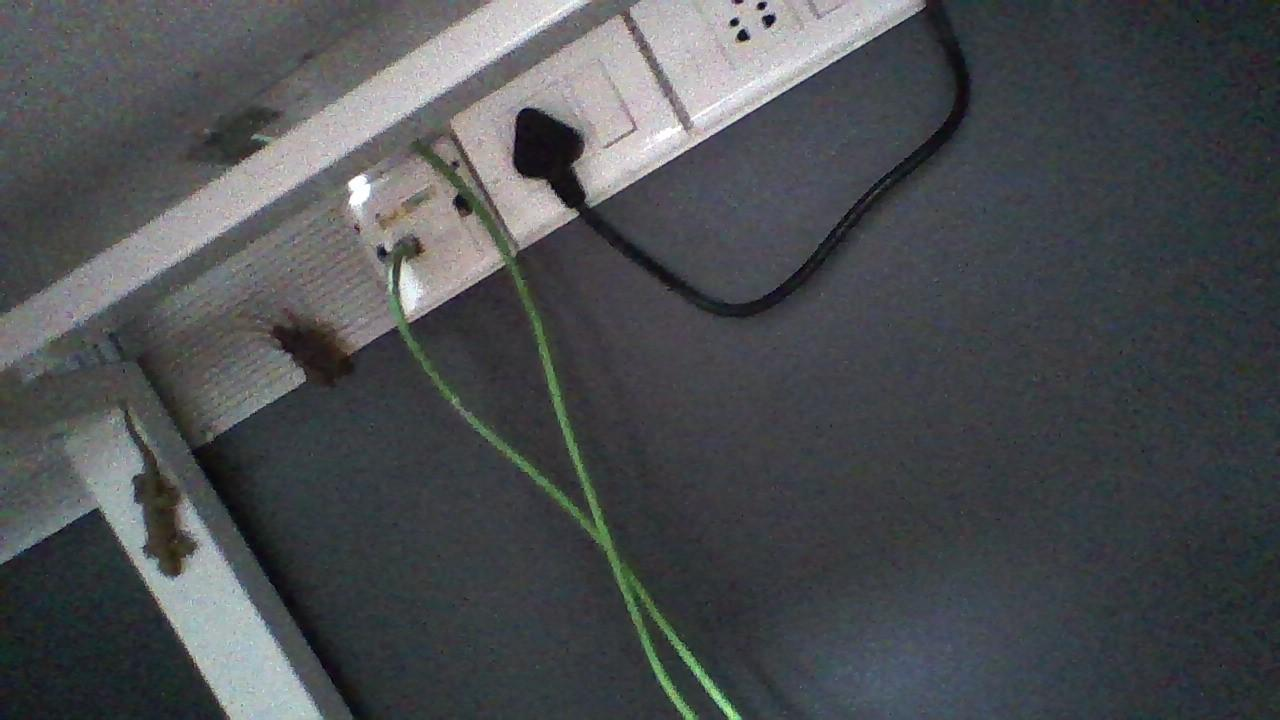cockroach: (246, 297, 357, 386)
lizard: (100, 383, 198, 583)
